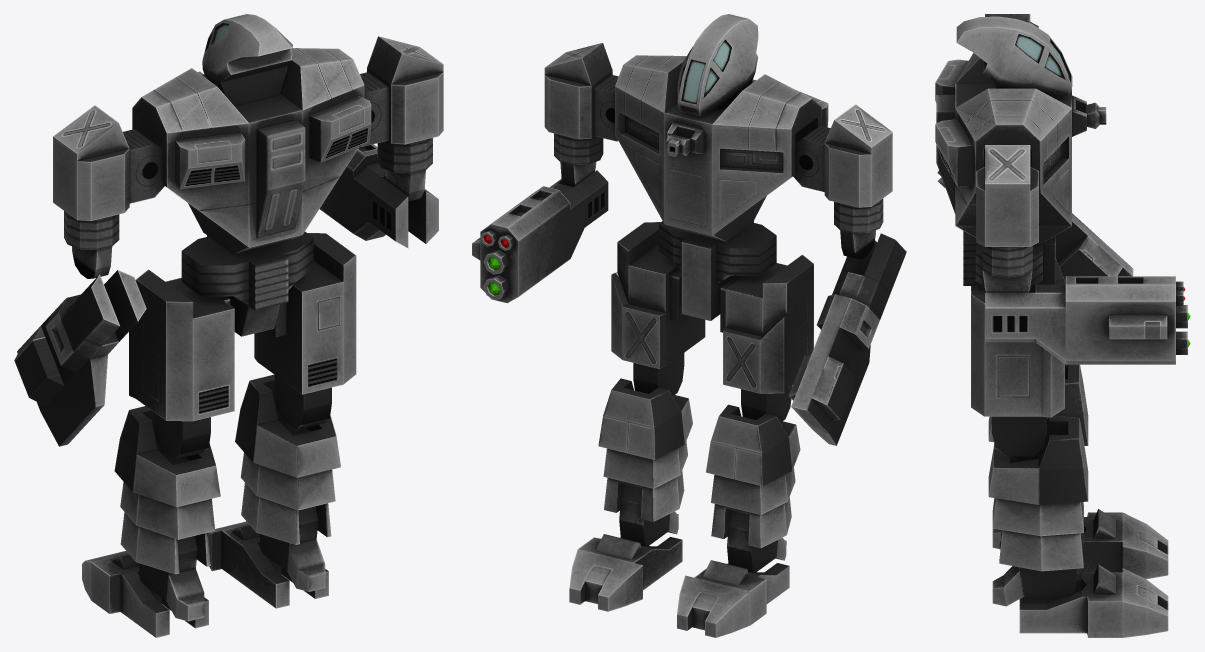
Rendered from Scarabus_exp.FBX.
3 renders of one model, left to right at view 1: azimuth 30°, elevation 25°; view 2: azimuth 150°, elevation 25°; view 3: azimuth 270°, elevation 25°, orthographic. The views are drawn at different scales.
Parts seen in each view (by area): view 1: torso, rupperleg, lupperleg, rlowerarm, rupperarm, llowerleg, rlowerleg, lupperarm, pelvis, llowerarm, rfronttoe, lfronttoe (+2 smaller); view 2: torso, rupperleg, rlowerarm, lupperleg, rlowerleg, llowerleg, llowerarm, rupperarm, lupperarm, pelvis, lfronttoe, rfronttoe (+2 smaller); view 3: torso, llowerarm, llowerleg, lupperleg, lupperarm, lfronttoe, rfronttoe, rlowerarm, lfoot, pelvis, rlowerleg, mantlet_5.
Part boxes in pixels (box(x1,y1,x2,y2)): torso: box(132, 14, 371, 254); rupperleg: box(129, 269, 234, 459); lupperleg: box(254, 233, 356, 429); rlowerarm: box(14, 270, 146, 446); rupperarm: box(53, 105, 164, 278); llowerleg: box(235, 374, 340, 544); rlowerleg: box(114, 406, 220, 574); lupperarm: box(360, 36, 443, 201); pelvis: box(181, 231, 313, 336); llowerarm: box(319, 144, 438, 248); rfronttoe: box(82, 551, 208, 637); lfronttoe: box(208, 521, 328, 608); torso: box(615, 14, 828, 241); rupperleg: box(720, 255, 813, 422); rlowerarm: box(789, 233, 906, 445); lupperleg: box(611, 222, 705, 395); rlowerleg: box(706, 404, 800, 548); llowerleg: box(598, 378, 692, 521); llowerarm: box(472, 170, 608, 303); rupperarm: box(793, 104, 892, 259); lupperarm: box(544, 43, 618, 187); pelvis: box(659, 221, 776, 320); lfronttoe: box(569, 534, 682, 611); rfronttoe: box(677, 560, 789, 637); torso: box(935, 16, 1086, 243); llowerarm: box(985, 276, 1190, 364); llowerleg: box(988, 416, 1088, 571); lupperleg: box(971, 291, 1064, 456); lupperarm: box(976, 145, 1038, 292); lfronttoe: box(1019, 564, 1168, 637); rfronttoe: box(1077, 509, 1168, 579); rlowerarm: box(937, 170, 1133, 284); lfoot: box(992, 566, 1077, 606); pelvis: box(963, 231, 1055, 290); rlowerleg: box(988, 364, 1088, 449); mantlet_5: box(1085, 102, 1106, 128).
Bounding box in the file's own units: 33.79 × 51.83 × 21.01.
1 material, 1 textured.
